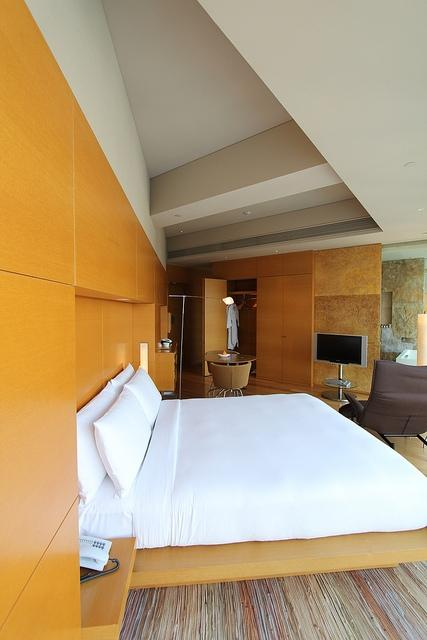orange: (222, 351, 227, 355)
